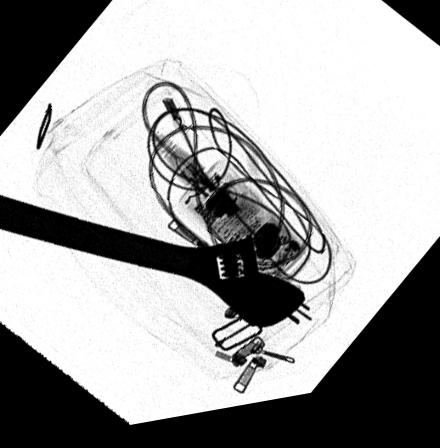Wrench: (0, 195, 304, 338)
